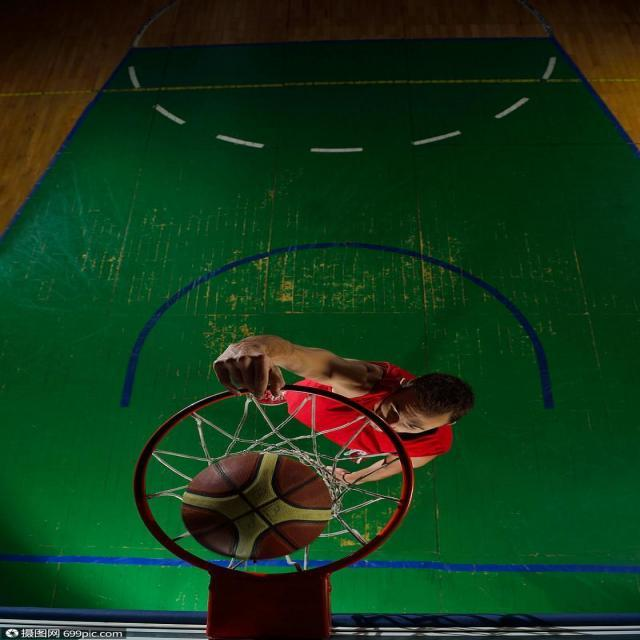rim: (182, 454, 336, 556)
